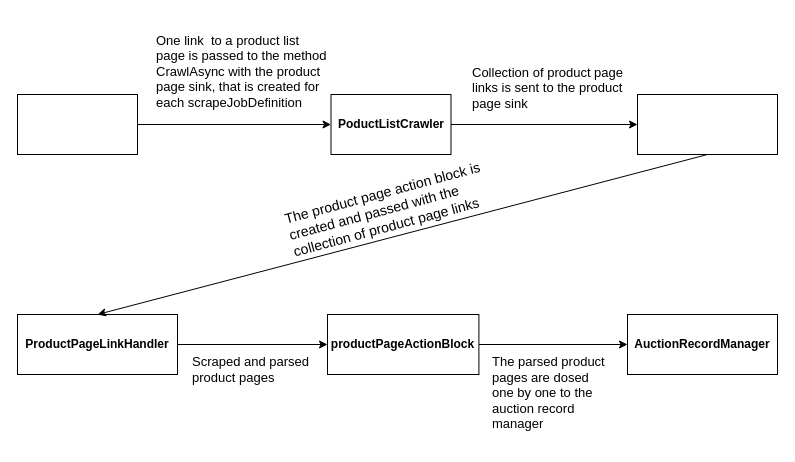
Image size: 795x462. Some labels were removed from this diagram. Here are the shapes that lost their labels. From the top down, the box of each, then its label:
(16, 94, 138, 154): WebScraper
(636, 94, 778, 154): productPageLinkSink Buffer + action block
